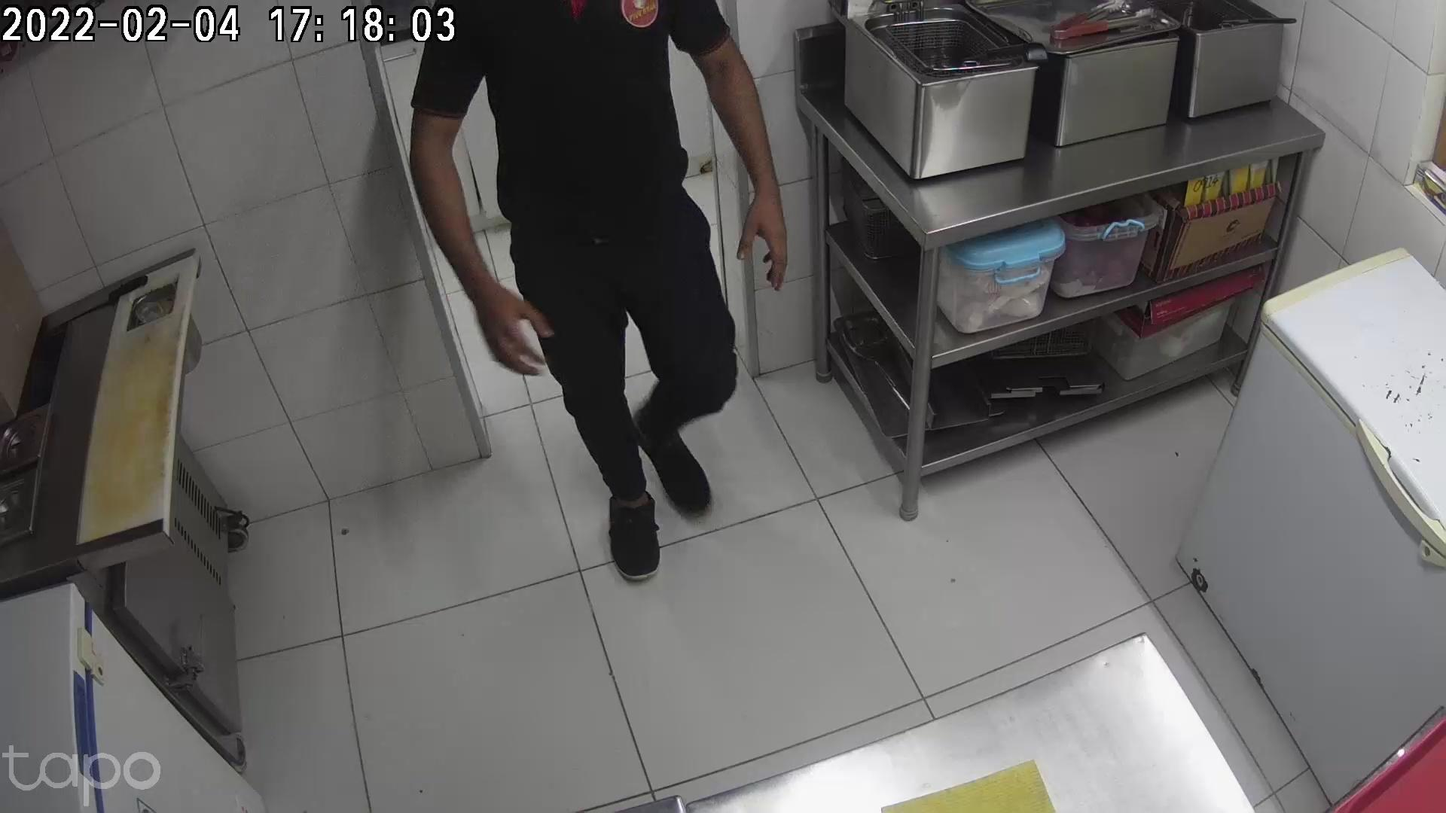no_gloves: (469, 273, 547, 372), (737, 156, 793, 290)
